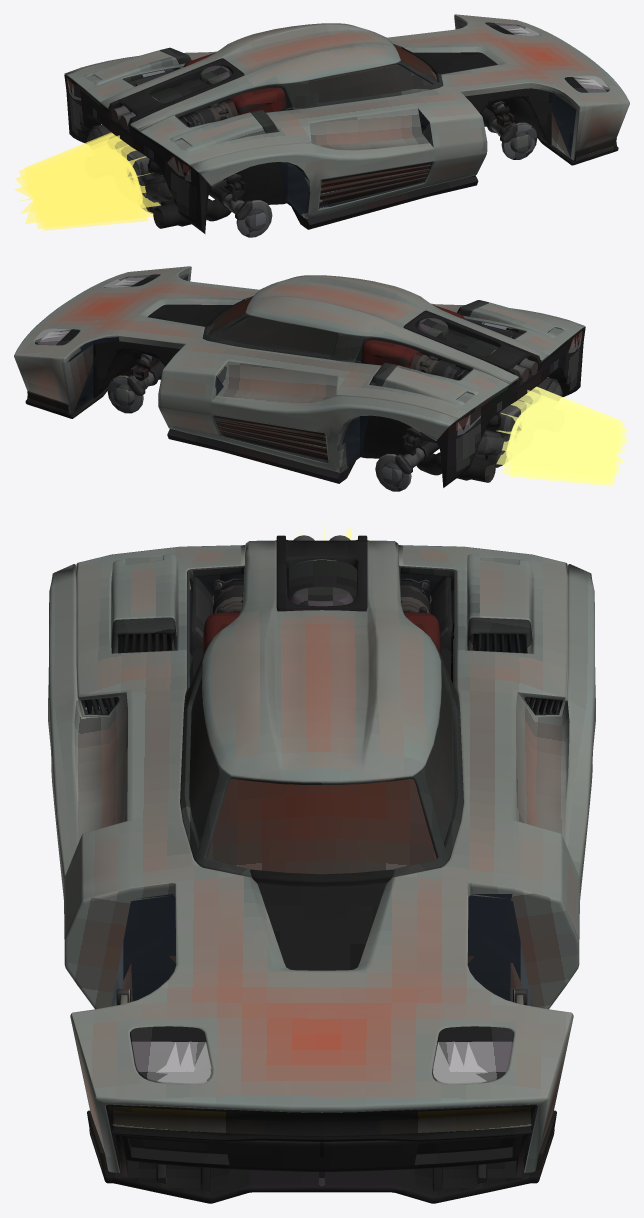
File: Breakout_Force_DetailedMaterials.glb
The picture shows the model from 3 angles, top to bottom: view 1: azimuth 30°, elevation 25°; view 2: azimuth 150°, elevation 25°; view 3: azimuth 270°, elevation 25°; orthographic projection. The views are drawn at different scales.
Visible parts, largest first — view 1: Breakout_Force_DetailedMaterials; view 2: Breakout_Force_DetailedMaterials; view 3: Breakout_Force_DetailedMaterials.
Boxes of the visible parts, bbox=[...] form: Breakout_Force_DetailedMaterials: bbox=[14, 14, 629, 237]; Breakout_Force_DetailedMaterials: bbox=[14, 266, 629, 491]; Breakout_Force_DetailedMaterials: bbox=[48, 524, 595, 1203].
Size of the model in its own units: 1.77 by 0.4136 by 0.7522.
6 materials, 5 textured.
